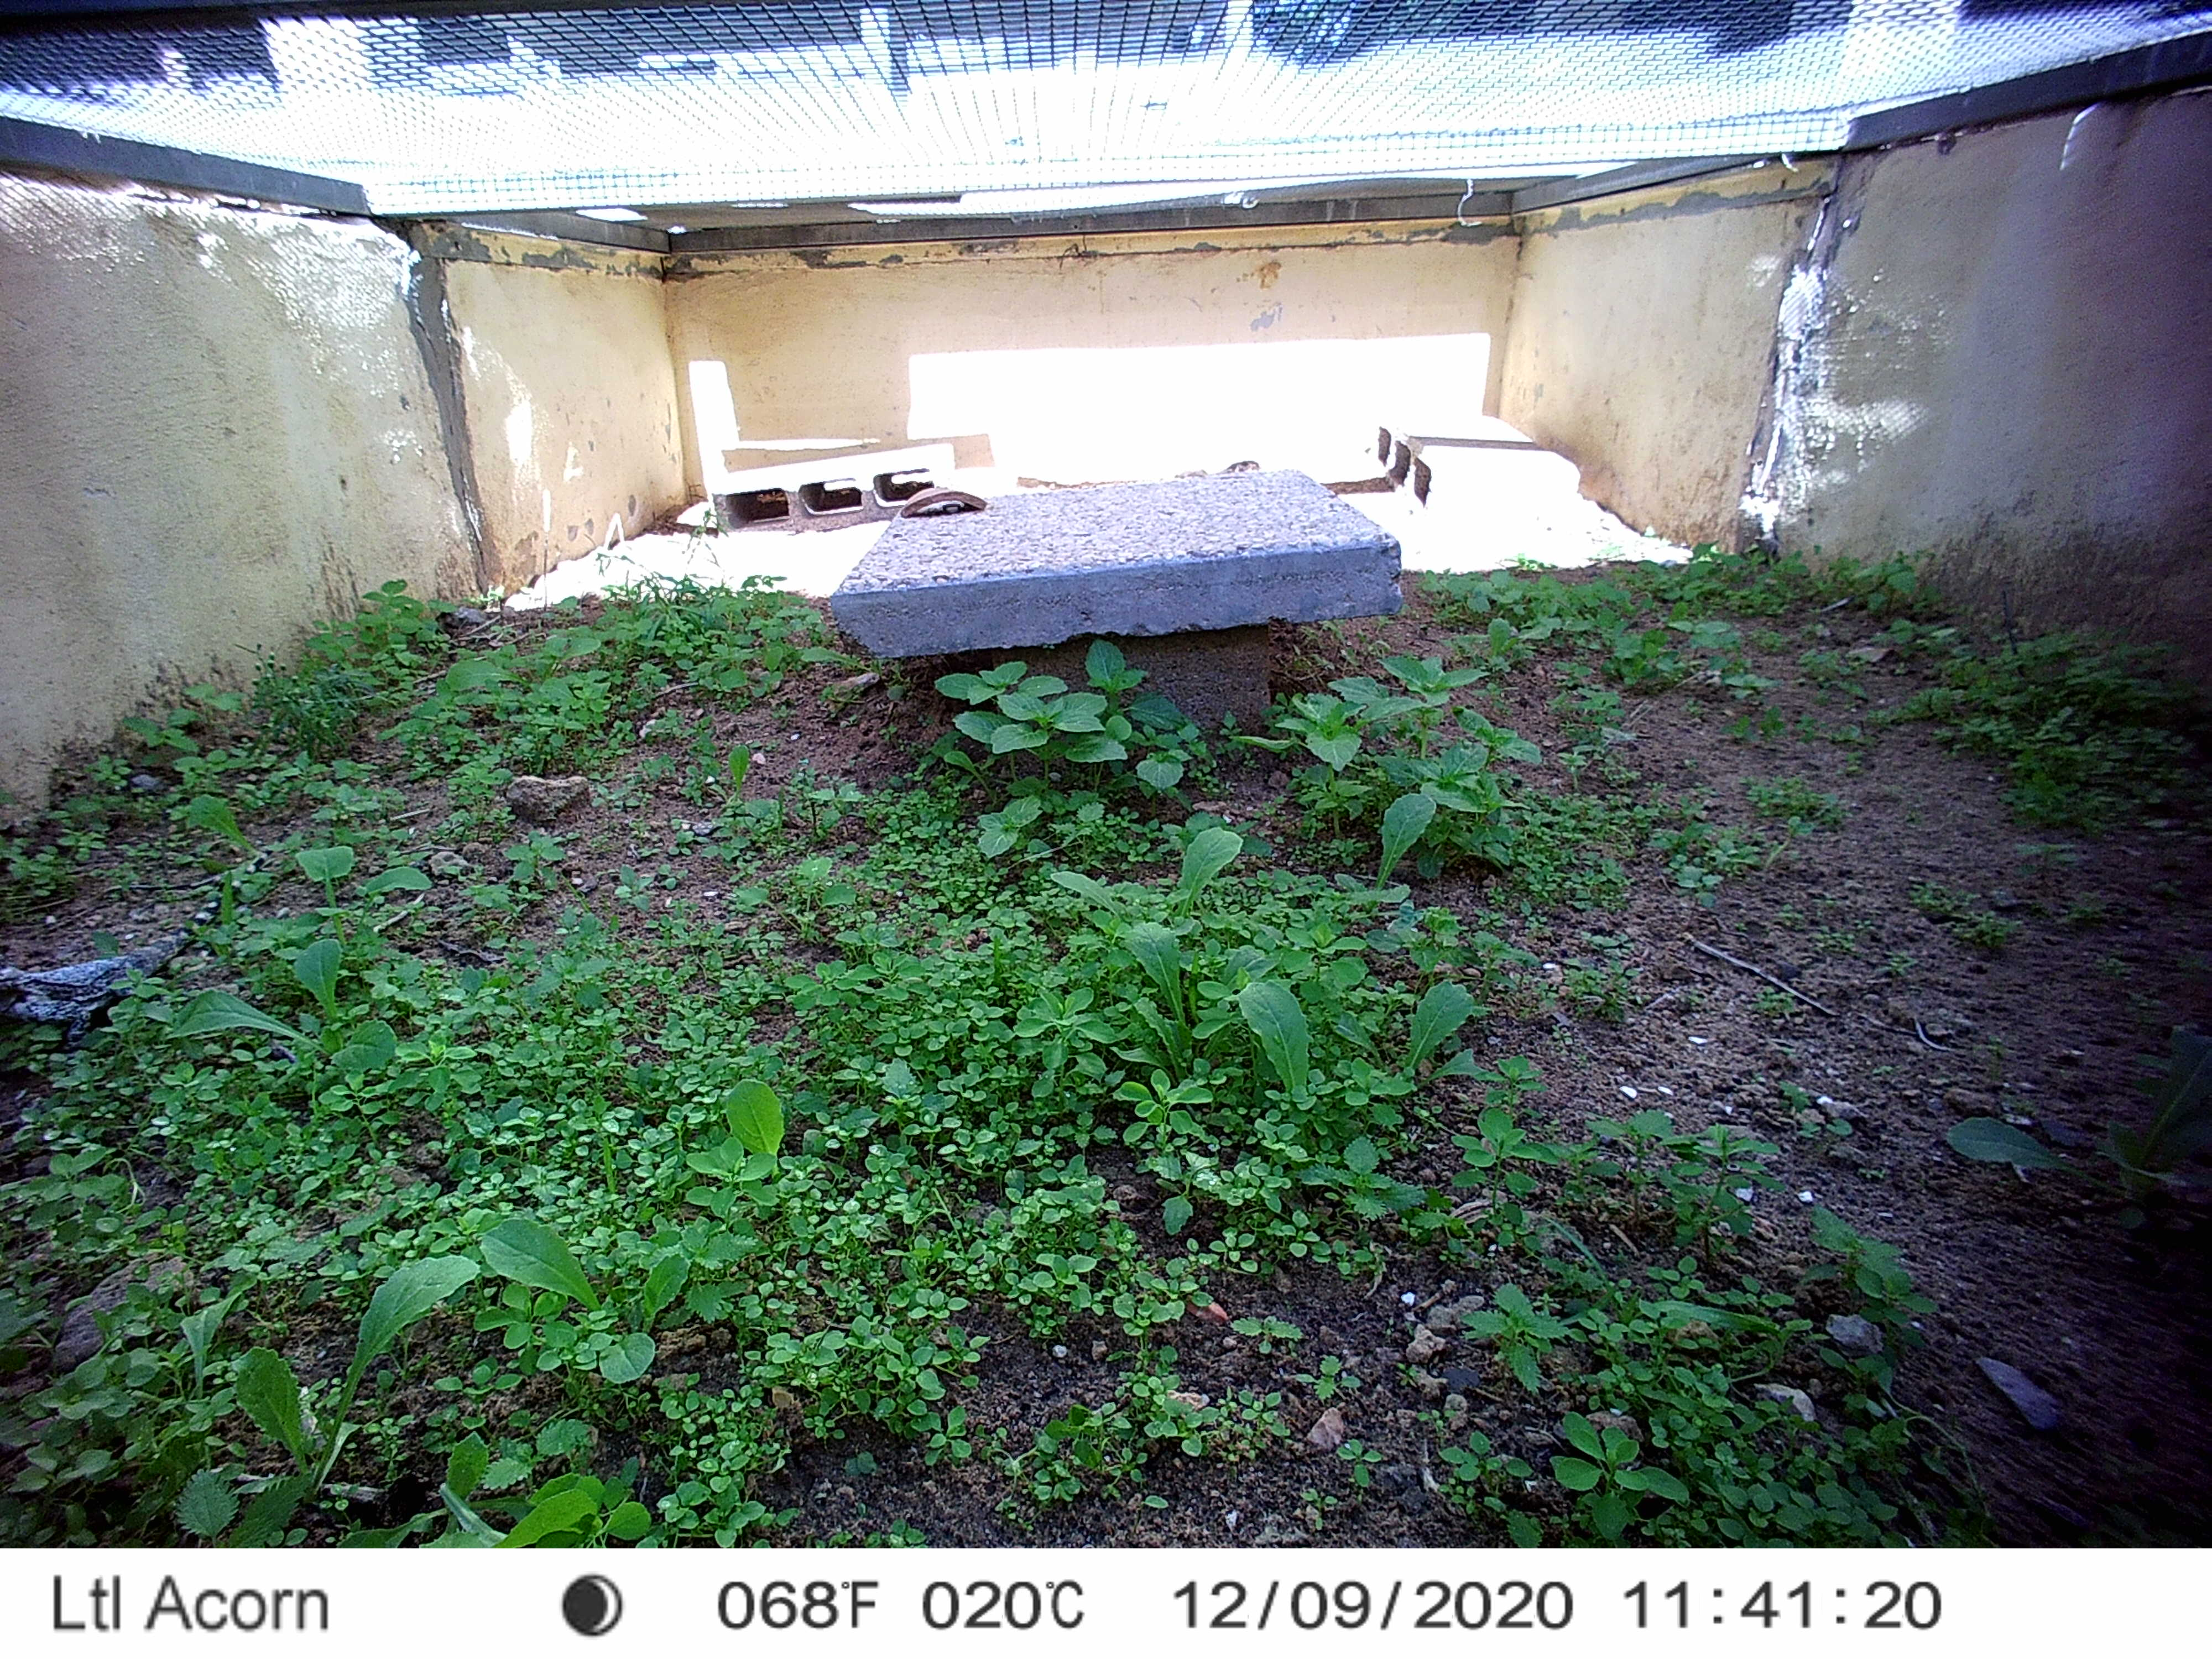lizard: (0, 812, 303, 1053)
